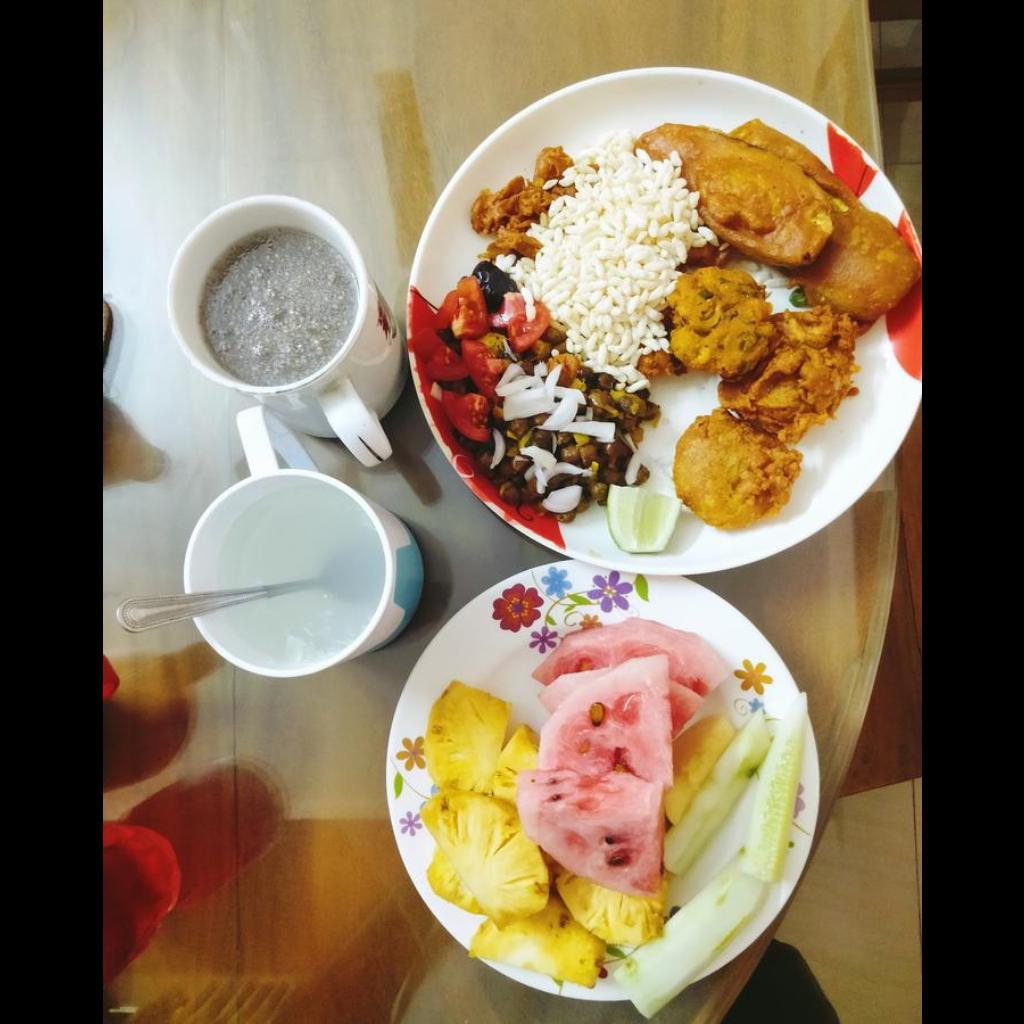beguni: (633, 121, 920, 323)
chola: (423, 262, 652, 518)
chop-alu: (672, 407, 801, 530)
cucumber: (613, 703, 806, 1017)
juice: (198, 234, 350, 381)
pineapple: (419, 682, 662, 986)
piyaju: (665, 267, 856, 449)
puffed-rice: (513, 132, 712, 390)
watermelon: (516, 618, 728, 895)
